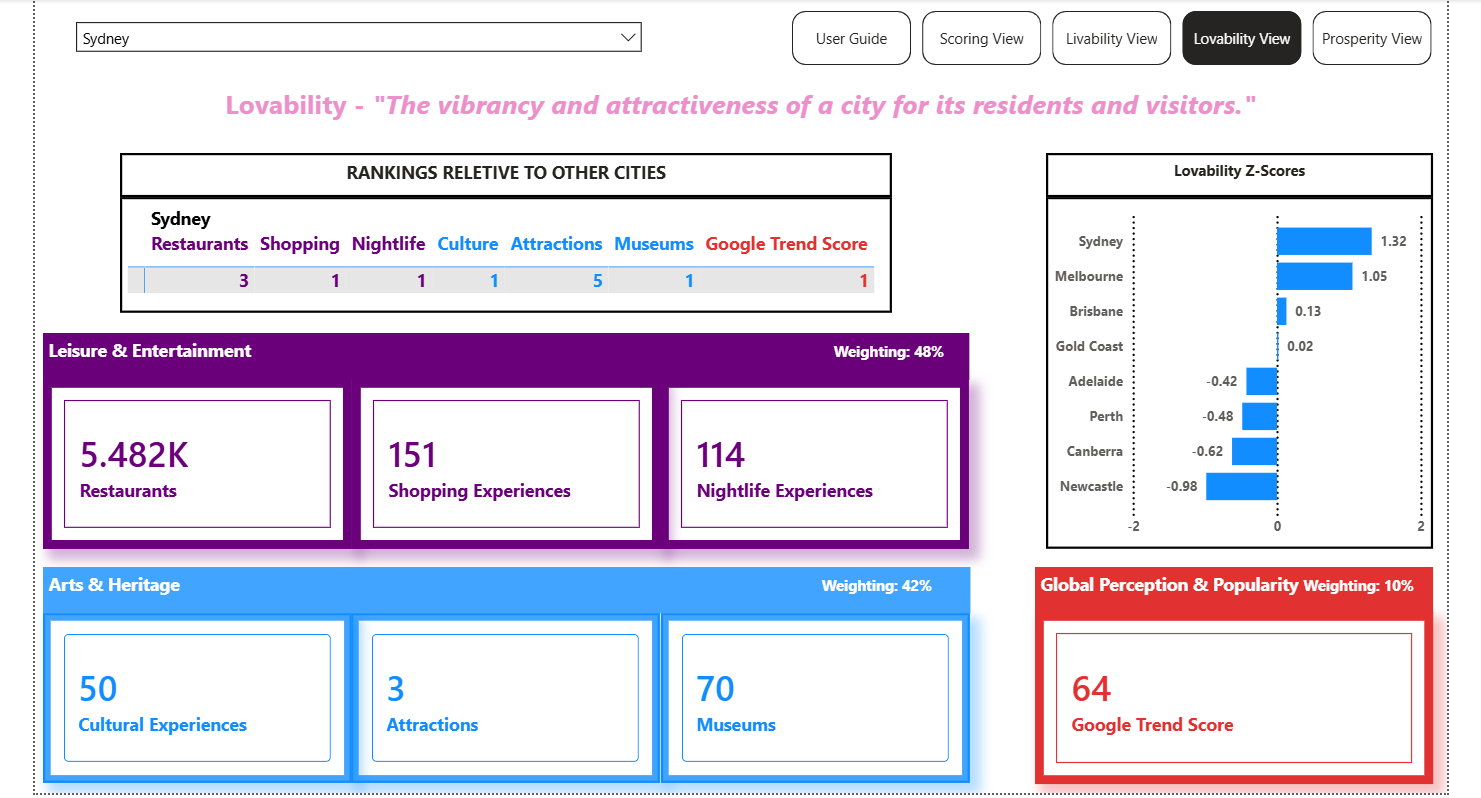

Layout of this report page (visuals, bound fields, positions):
{"tool":"powerbi","page":{"name":"Lovability View","canvas":[1280,720],"ordinal":3},"visuals":[{"type":"cardVisual","fields":{"Data":["Measure Table.Attractions"]},"box":[287,557,280,154],"z":0},{"type":"cardVisual","fields":{"Data":["Measure Table.Culture"]},"box":[7,557,280,154],"z":1000},{"type":"cardVisual","fields":{"Data":["Measure Table.Restaurants"]},"box":[7.3,344.6,280.2,154.2],"z":2000},{"type":"cardVisual","fields":{"Data":["Measure Table.Museums"]},"box":[568,557,280,154],"z":3000},{"type":"cardVisual","fields":{"Data":["Measure Table.Nightlife"]},"box":[566.8,344.6,280.2,154.2],"z":4000},{"type":"cardVisual","fields":{"Data":["Measure Table.Shopping"]},"box":[287.5,344.6,280.2,154.2],"z":5000},{"type":"cardVisual","fields":{"Data":["Measure Table.Google Trends"]},"box":[907,556,361,156],"z":6000},{"type":"slicer","fields":{"Values":["Cities_Table.CITY NAME"]},"box":[27.2,10.9,533.2,49.9],"z":7000},{"type":"pageNavigator","box":[686.4,10.9,581.3,49.9],"z":8000},{"type":"textbox","box":[7.3,302.9,839.7,41.7],"z":9000},{"type":"textbox","box":[7,515,841,42],"z":10000},{"type":"textbox","box":[907,515,361,42],"z":11000},{"type":"pivotTable","fields":{"Columns":["Cities_Table.CITY NAME"],"Values":["Measure Table.Rank Restaurants","Measure Table.Rank Shopping","Measure Table.Rank Nightlife","Measure Table.Rank Culture","Measure Table.Rank Attractions","Measure Table.Rank Museums","Measure Table.Rank Google Trend"]},"box":[77.1,179.5,700.1,105.2],"z":12000},{"type":"textbox","box":[77.1,139.6,700.1,39.9],"z":13000},{"type":"barChart","title":"Lovability Scores","fields":{"Category":["Cities_Table.CITY NAME"],"Y":["Sum(Lovability_Z_Score_Table.LOVABILITY Z-SCORE)"]},"box":[916.8,179.5,350.9,319.2],"z":14000},{"type":"textbox","box":[27.2,73.5,1225.1,53.5],"z":15000},{"type":"textbox","box":[916.8,139.6,350.9,39.9],"z":16000}]}

Visuals, with their boxes on the page's 1280x720 design canvas (x1, y1, x2, y2). These are canvas units, not pixel positions in the 1481x798 screenshot, which may show the page scaled, cropped or inside an application window:
cardVisual - Measure Table.Attractions: <box>287,557,567,711</box>
cardVisual - Measure Table.Culture: <box>7,557,287,711</box>
cardVisual - Measure Table.Restaurants: <box>7,345,288,499</box>
cardVisual - Measure Table.Museums: <box>568,557,848,711</box>
cardVisual - Measure Table.Nightlife: <box>567,345,847,499</box>
cardVisual - Measure Table.Shopping: <box>288,345,568,499</box>
cardVisual - Measure Table.Google Trends: <box>907,556,1268,712</box>
slicer - Cities_Table.CITY NAME: <box>27,11,560,61</box>
pageNavigator: <box>686,11,1268,61</box>
textbox: <box>7,303,847,345</box>
textbox: <box>7,515,848,557</box>
textbox: <box>907,515,1268,557</box>
pivotTable - Cities_Table.CITY NAME x Measure Table.Rank Restaurants: <box>77,180,777,285</box>
textbox: <box>77,140,777,180</box>
"Lovability Scores" barChart: <box>917,180,1268,499</box>
textbox: <box>27,74,1252,127</box>
textbox: <box>917,140,1268,180</box>
